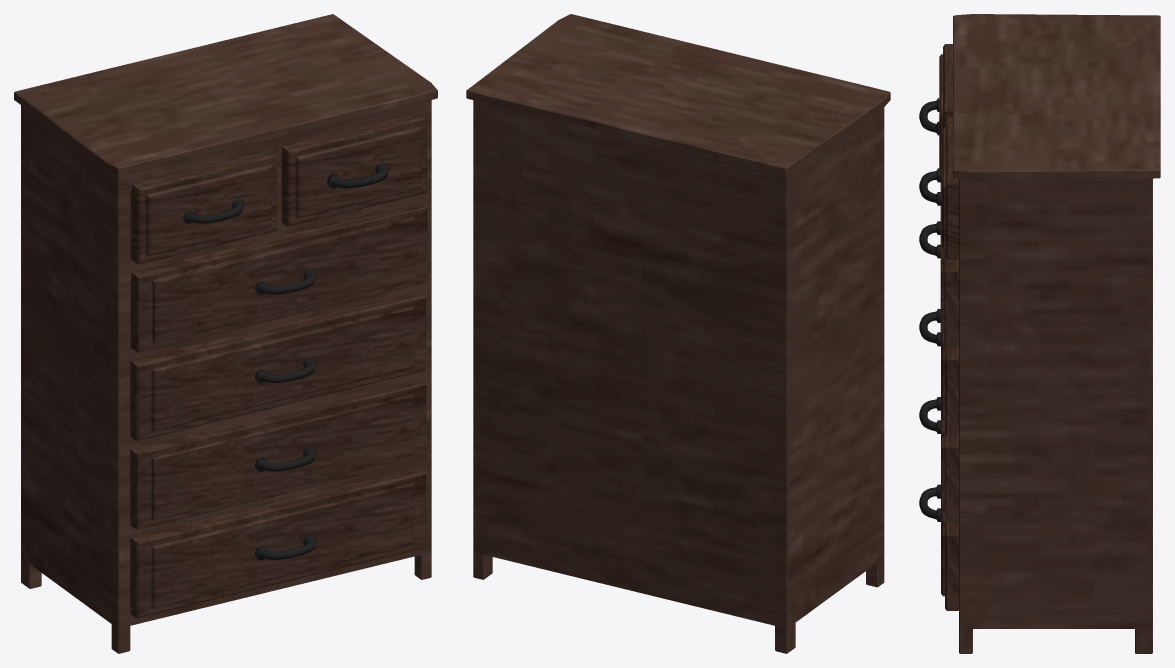
Rendered from dresser-tall.gltf.
3 renders of one model, left to right at view 1: azimuth 30°, elevation 25°; view 2: azimuth 150°, elevation 25°; view 3: azimuth 270°, elevation 25°, orthographic.
Visible parts, largest first — view 1: DresserFrame, Drawer03, Drawer05, Drawer04, Drawer06, Drawer01, Drawer02; view 2: DresserFrame; view 3: DresserFrame, Drawer02, Drawer03, Drawer04, Drawer05, Drawer06, Drawer01.
Part boxes in pixels (left/top/right/bottom): DresserFrame: left=14, top=14, right=437, bottom=653; Drawer03: left=130, top=201, right=427, bottom=352; Drawer05: left=130, top=378, right=427, bottom=529; Drawer04: left=130, top=290, right=426, bottom=440; Drawer06: left=130, top=467, right=426, bottom=617; Drawer01: left=130, top=150, right=277, bottom=264; Drawer02: left=281, top=113, right=426, bottom=226; DresserFrame: left=466, top=14, right=890, bottom=653; DresserFrame: left=953, top=14, right=1160, bottom=653; Drawer02: left=919, top=117, right=958, bottom=259; Drawer03: left=919, top=182, right=958, bottom=347; Drawer04: left=919, top=309, right=958, bottom=435; Drawer05: left=919, top=397, right=958, bottom=522; Drawer06: left=919, top=484, right=958, bottom=610; Drawer01: left=919, top=44, right=952, bottom=168.
Size of the model in its own units: 0.7667 by 1.1 by 0.4954.
3 materials, 2 textured.
